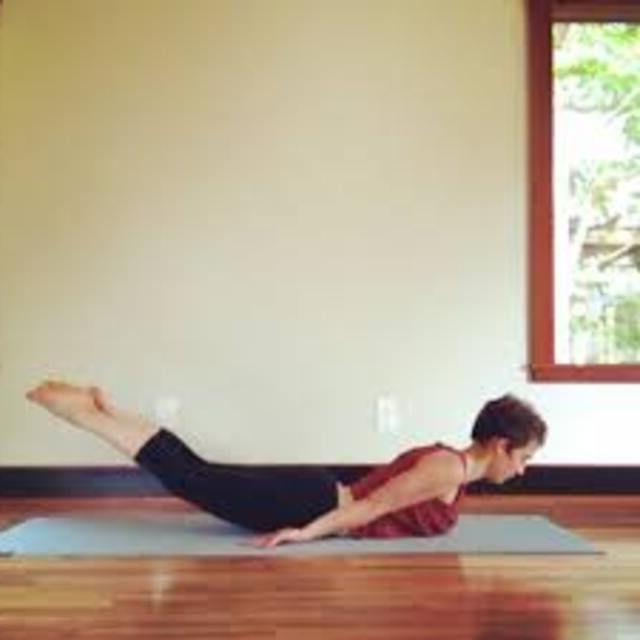Locust_Pose: (27, 375, 554, 543)
